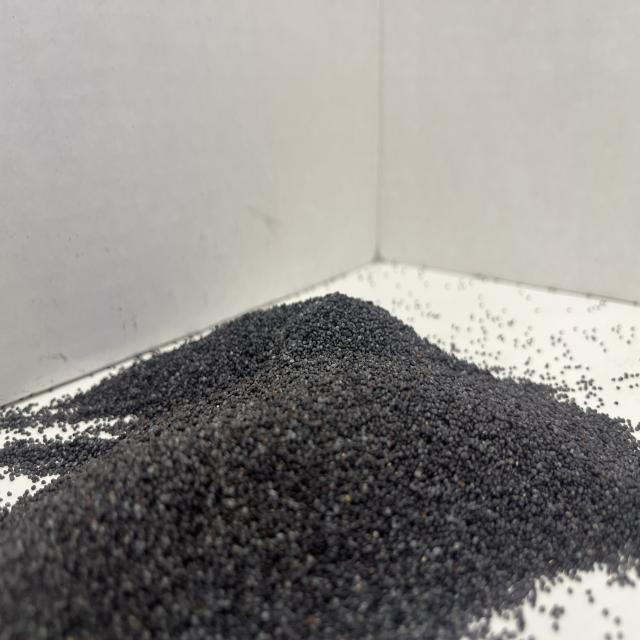Poppy Seeds: (3, 253, 635, 633)
